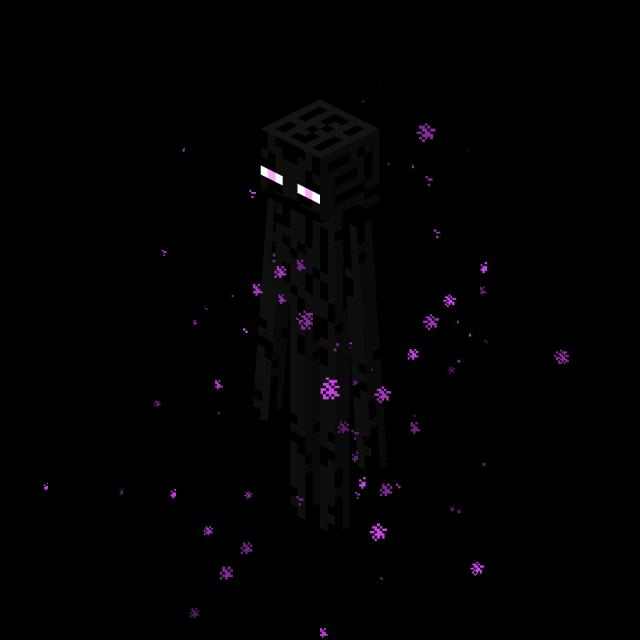Enderman: (244, 90, 396, 567)
